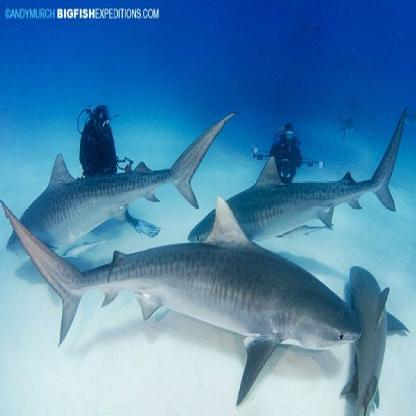shark: (1, 197, 365, 411), (3, 96, 237, 265), (188, 99, 412, 250), (340, 242, 410, 414)
